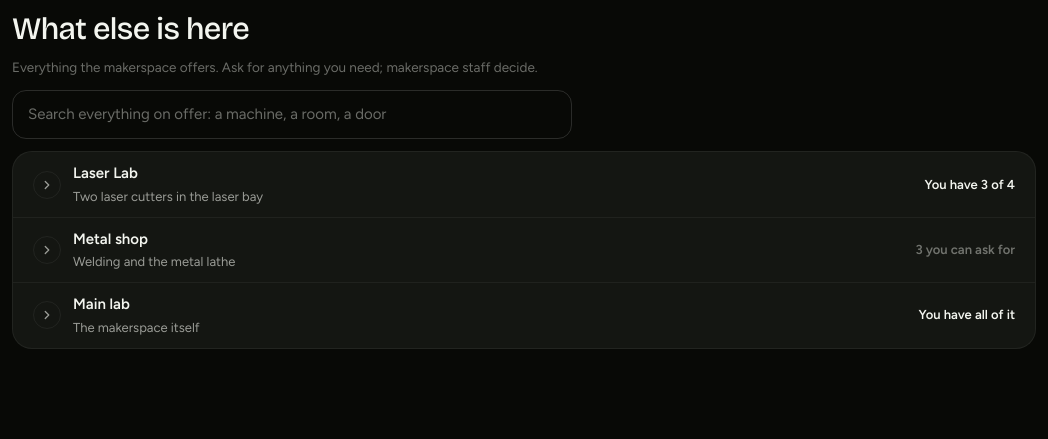
Test: MemberCatalog search › matches a room by its name
Type "main lab" into the search field labelled "Search everything on offer" at point(292, 115), box [12,90,572,140]
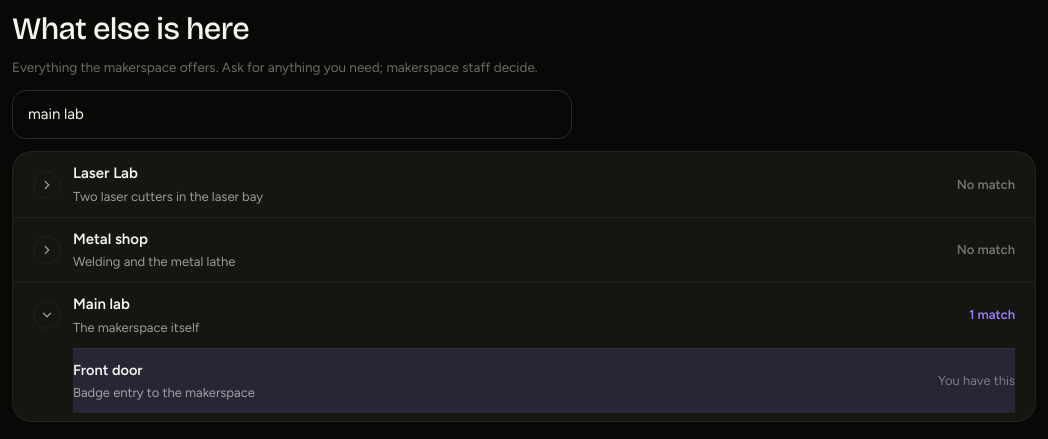
Expected: the button "Main lab The makerspace itself 1 match" is expanded, [13,283,1035,348]
Expected: the text "Front door" is shown, [73,361,143,379]
